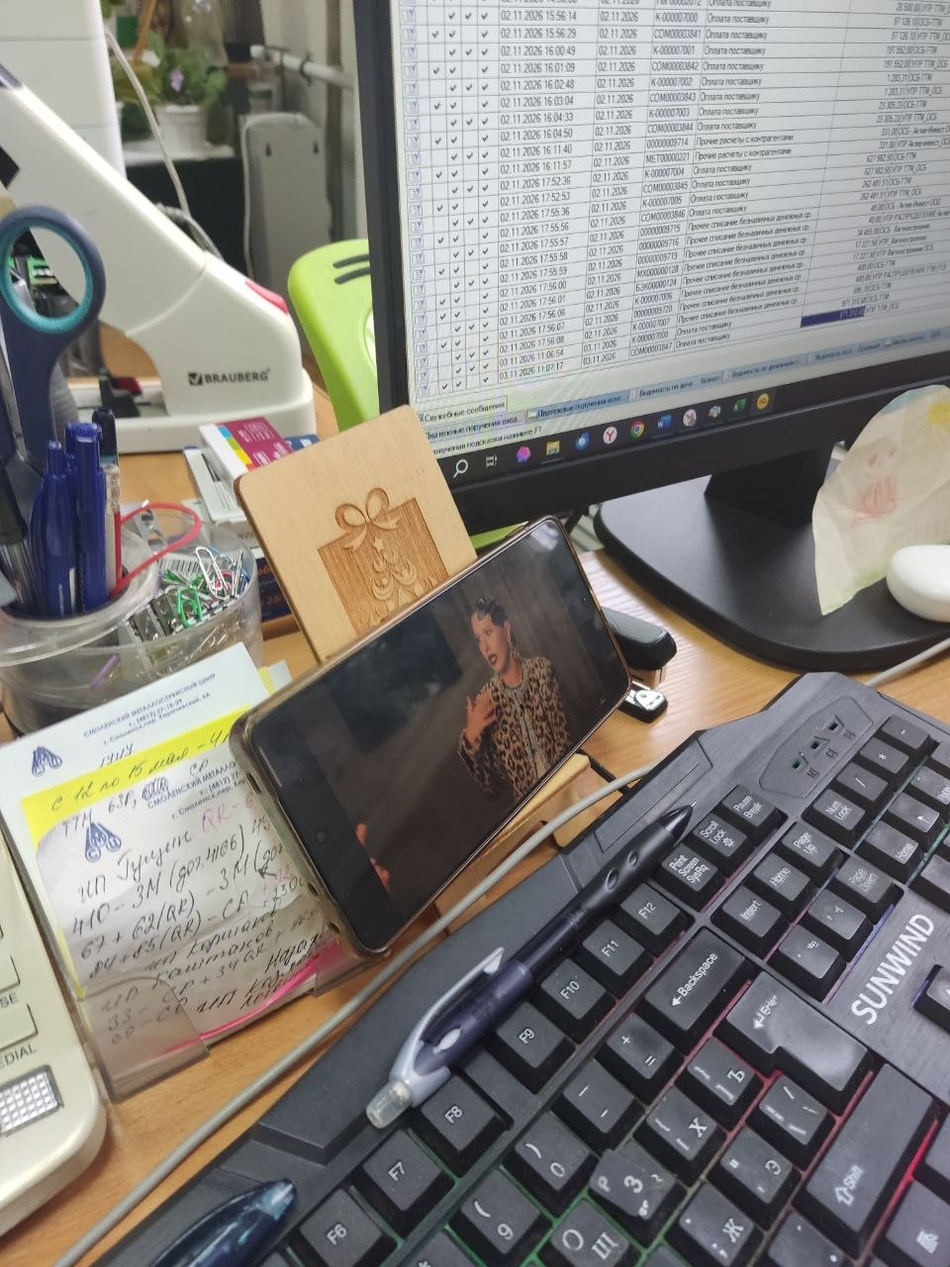cell phone: (228, 514, 632, 958)
